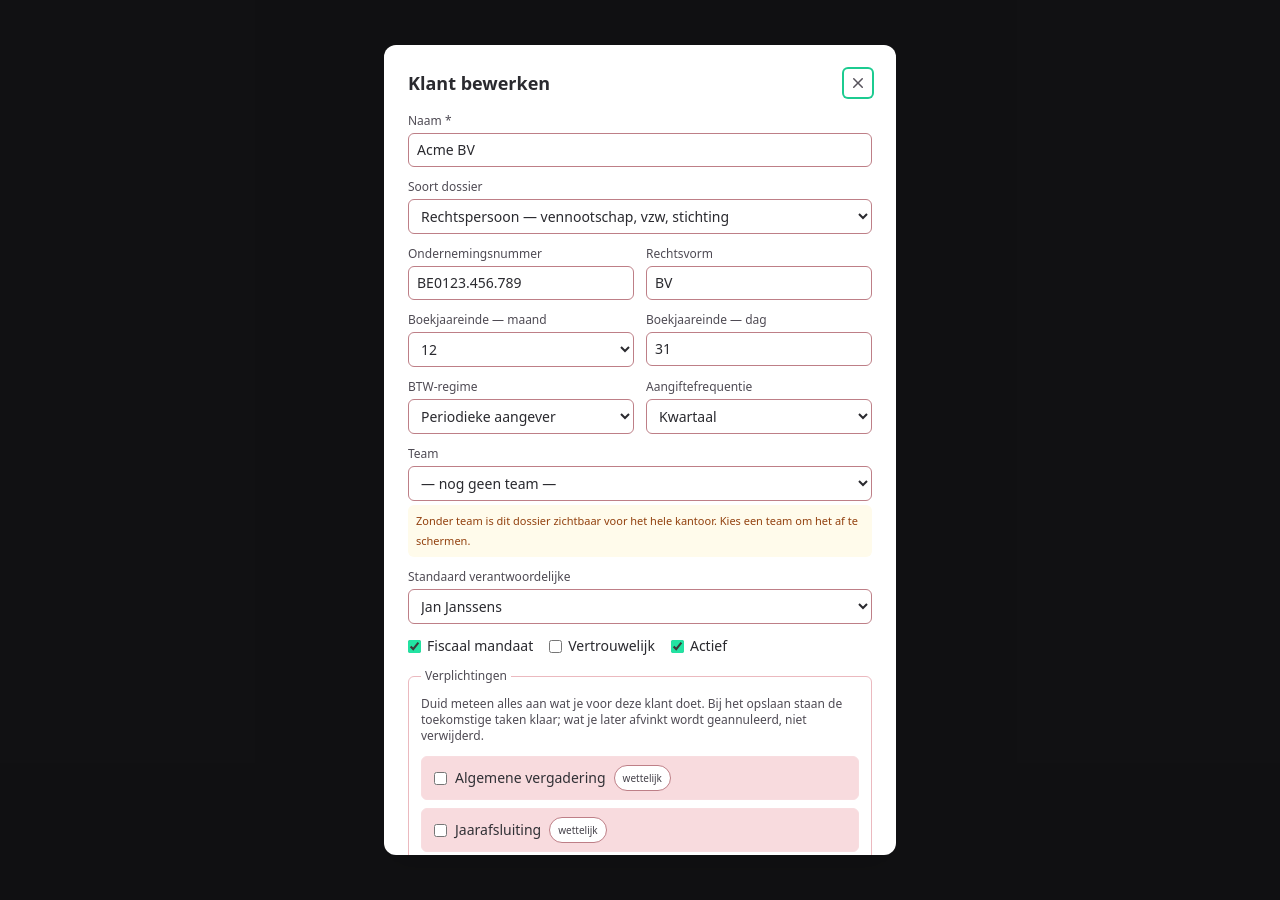
ClientFormModal — editing an existing client › warns, with the number of tasks at stake, when Actief is unticked for an active client
Expected: the text "archiveert deze klant" is not shown
Click the checkbox labelled "Actief" at (677, 646), box [671, 640, 684, 652]
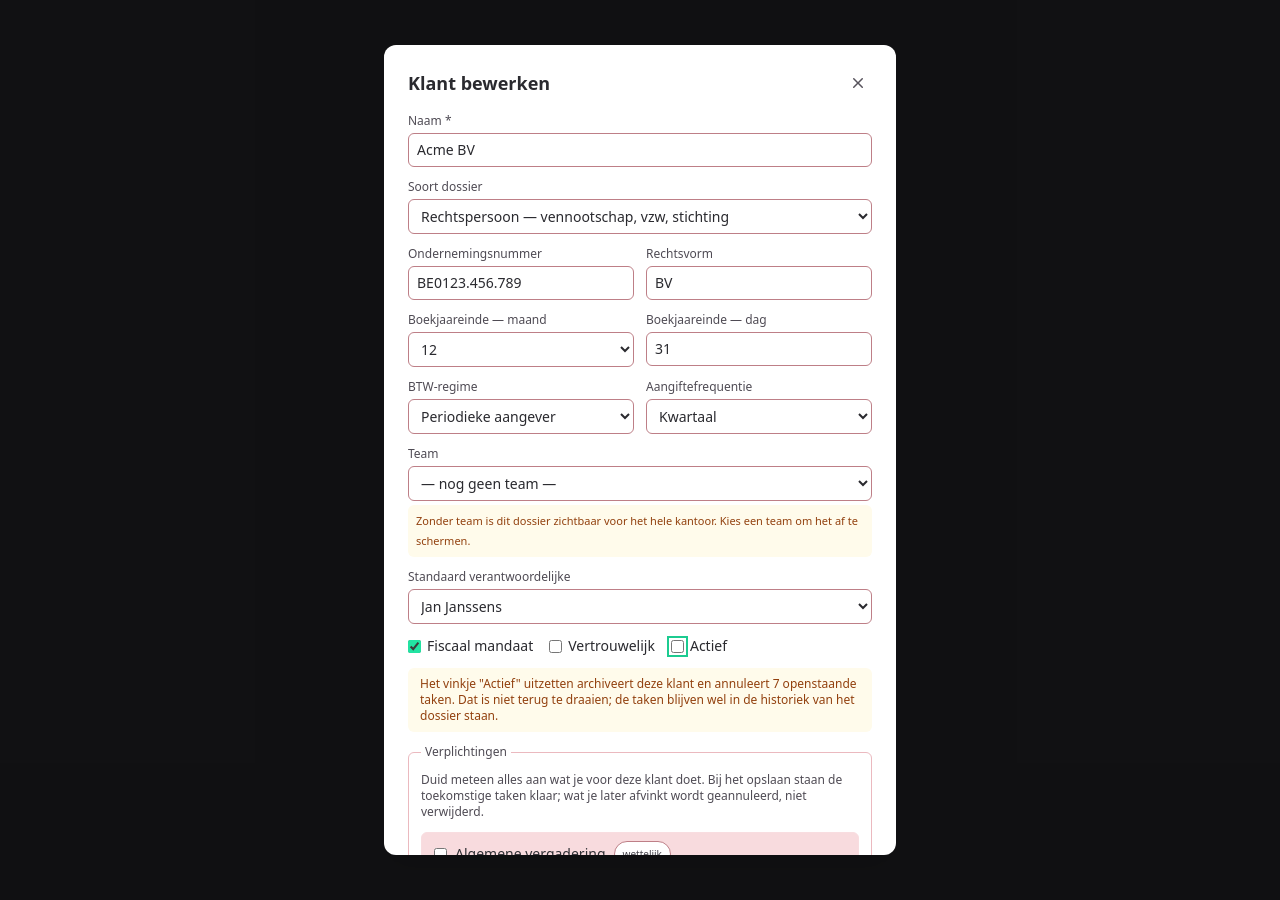
Expected: the text "archiveert deze klant" shows "7 openstaande taken", [420, 675, 857, 708]
